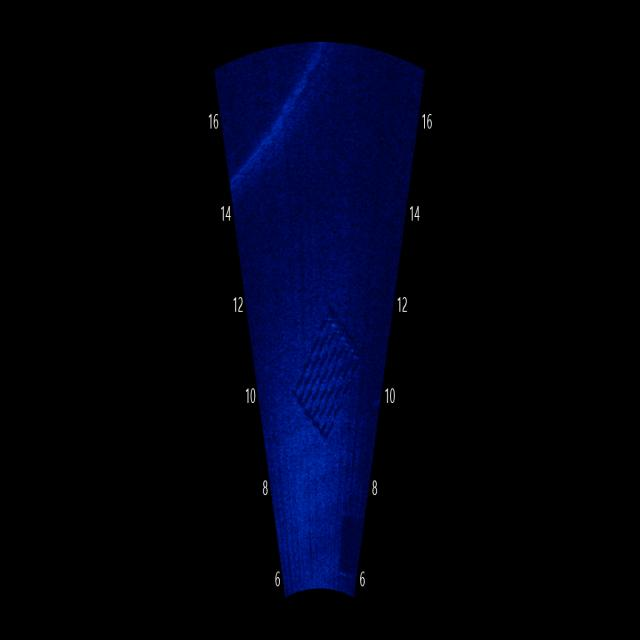square: (281, 290, 363, 459)
